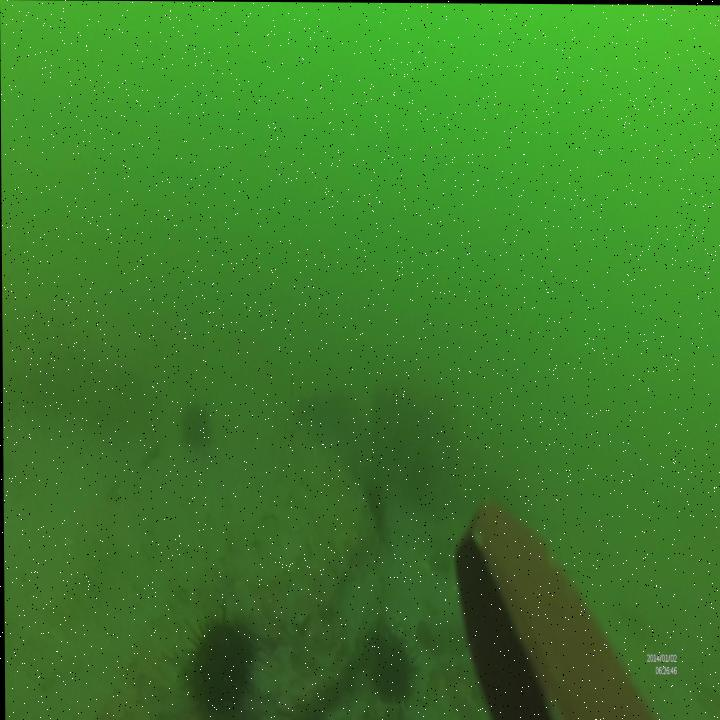echinus: (178, 605, 263, 712), (368, 624, 416, 708), (180, 401, 213, 452)
